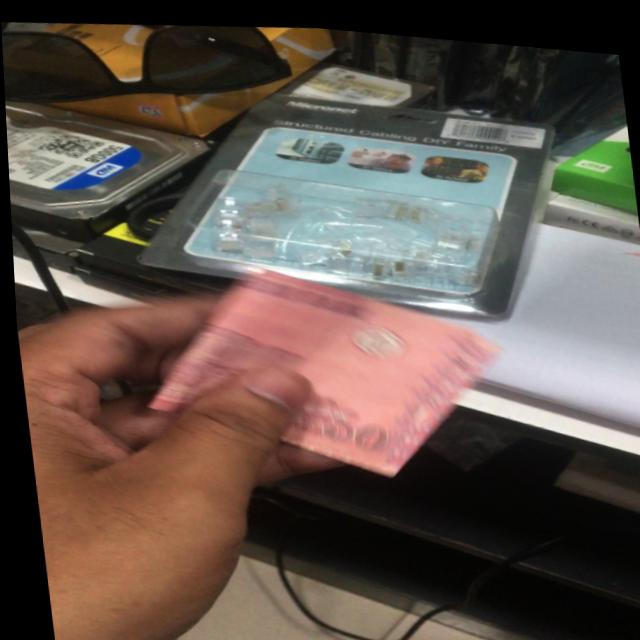Taka: (146, 244, 514, 499)
